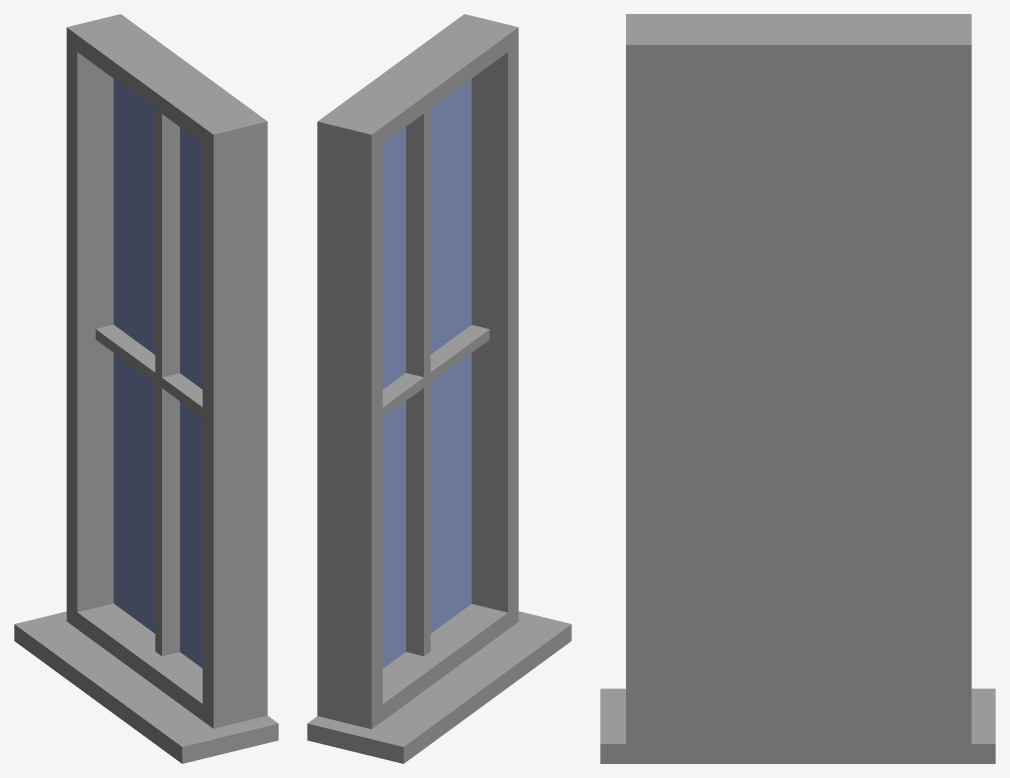
The model's file is Town_hall_window_small.fbx.
3 renders of one model, left to right at view 1: azimuth 30°, elevation 25°; view 2: azimuth 150°, elevation 25°; view 3: azimuth 270°, elevation 25°, orthographic. The views are drawn at different scales.
Visible parts, largest first — view 1: Town_hall_window_small; view 2: Town_hall_window_small; view 3: Town_hall_window_small.
Part boxes in pixels (x1,y1,x2,y2): Town_hall_window_small: (14, 14, 278, 763); Town_hall_window_small: (307, 14, 571, 763); Town_hall_window_small: (600, 14, 995, 763).
Bounding box in the file's own units: 26.26 × 159 × 79.28.
